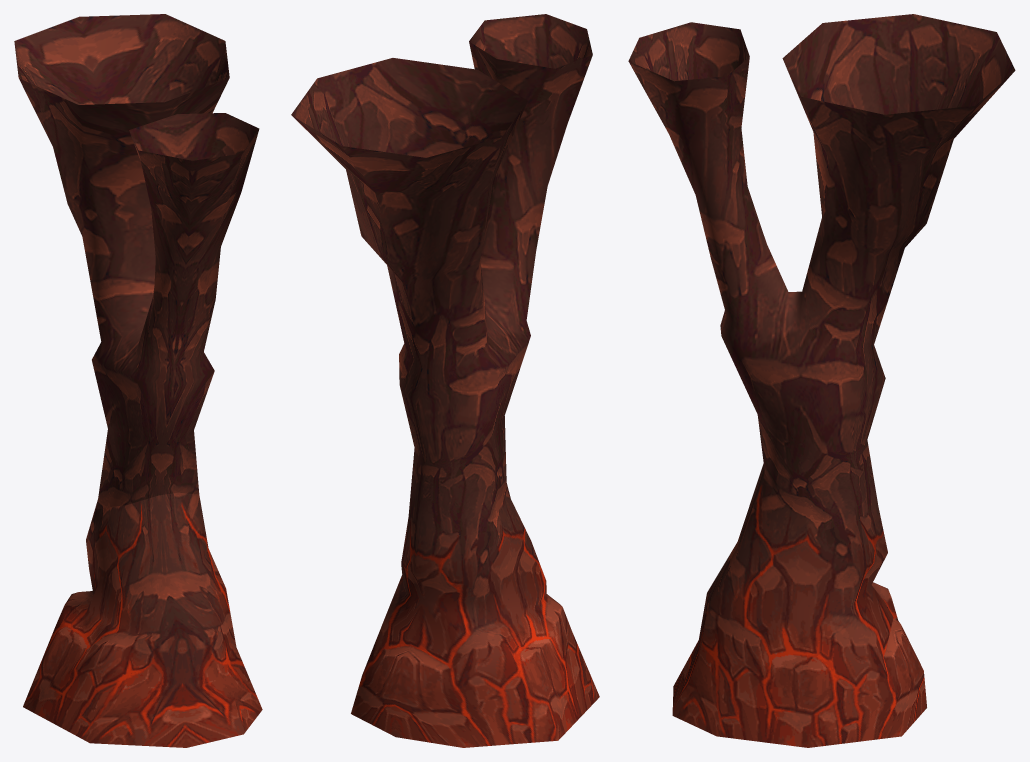
File: Dragon_Pillars_01.FBX
3 views of the same model, side by side, from view 1: azimuth 30°, elevation 25°; view 2: azimuth 150°, elevation 25°; view 3: azimuth 270°, elevation 25° (orthographic). The views are drawn at different scales.
Parts seen in each view (by area): view 1: Dragon_Pillars_01_01, Dragon_Pillars_01_02; view 2: Dragon_Pillars_01_01, Dragon_Pillars_01_02; view 3: Dragon_Pillars_01_01, Dragon_Pillars_01_02.
Part boxes in pixels (left/top/right/bottom): Dragon_Pillars_01_01: left=14, top=14, right=259, bottom=509; Dragon_Pillars_01_02: left=23, top=492, right=262, bottom=747; Dragon_Pillars_01_01: left=291, top=14, right=592, bottom=535; Dragon_Pillars_01_02: left=351, top=483, right=599, bottom=747; Dragon_Pillars_01_01: left=628, top=14, right=1015, bottom=529; Dragon_Pillars_01_02: left=672, top=464, right=926, bottom=747.
Size of the model in its own units: 5.36 by 14.1 by 7.69.
